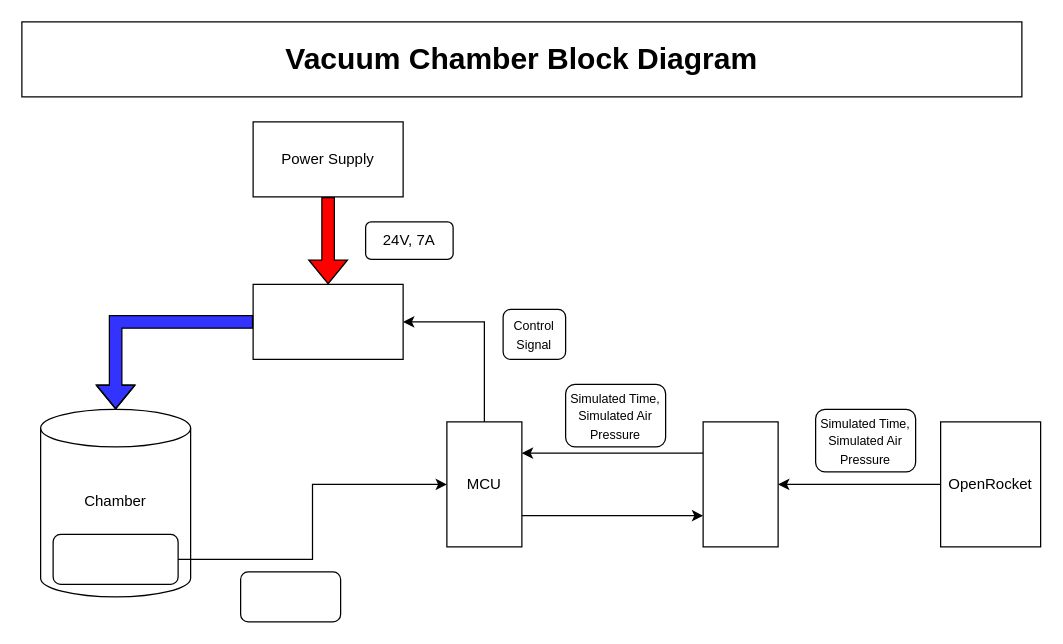
Some shapes in this 1063 by 644 pixel diagram are drawn without their labels. Each missing label, with the centre of its shape:
"Air Pressure Sensor" belongs at (115,558).
"Laptop" belongs at (740,484).
"Pump" belongs at (327,321).
"Real Air Pressure" belongs at (290,596).
